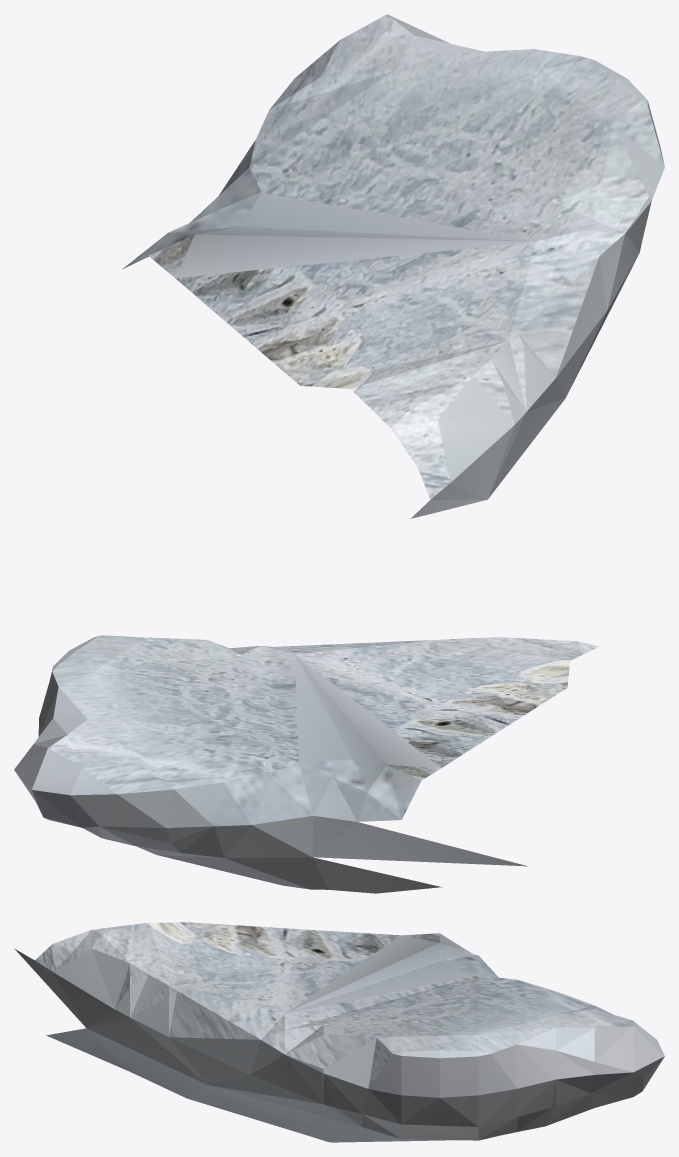
3 renders of one model, top to bottom at view 1: azimuth 30°, elevation 25°; view 2: azimuth 150°, elevation 25°; view 3: azimuth 270°, elevation 25°, orthographic. The views are drawn at different scales.
Bounding box in the file's own units: 1.77 × 0.5699 × 2.2.
Materials: 1 (1 with a texture image).
